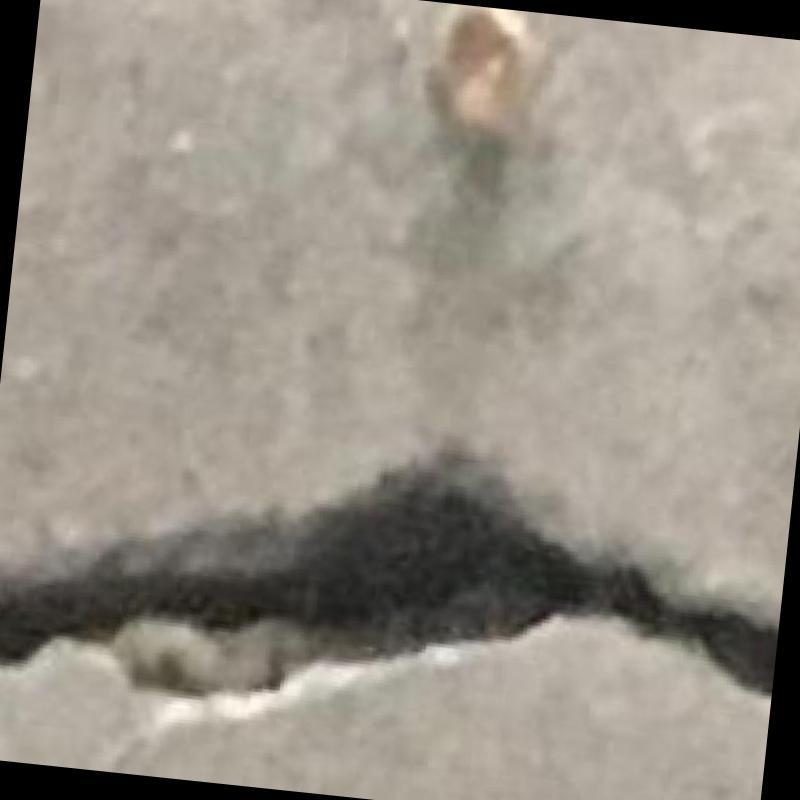pothole: (0, 469, 777, 694)
